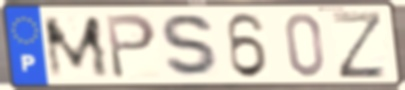0: (282, 12, 327, 79)
6: (224, 11, 270, 80)
M: (40, 14, 113, 81)
P: (103, 12, 159, 81)
S: (159, 12, 225, 81)
Z: (329, 10, 389, 81)
